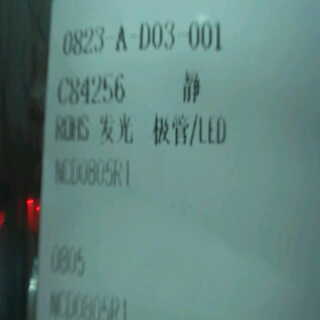LED: (97, 110, 231, 149)
